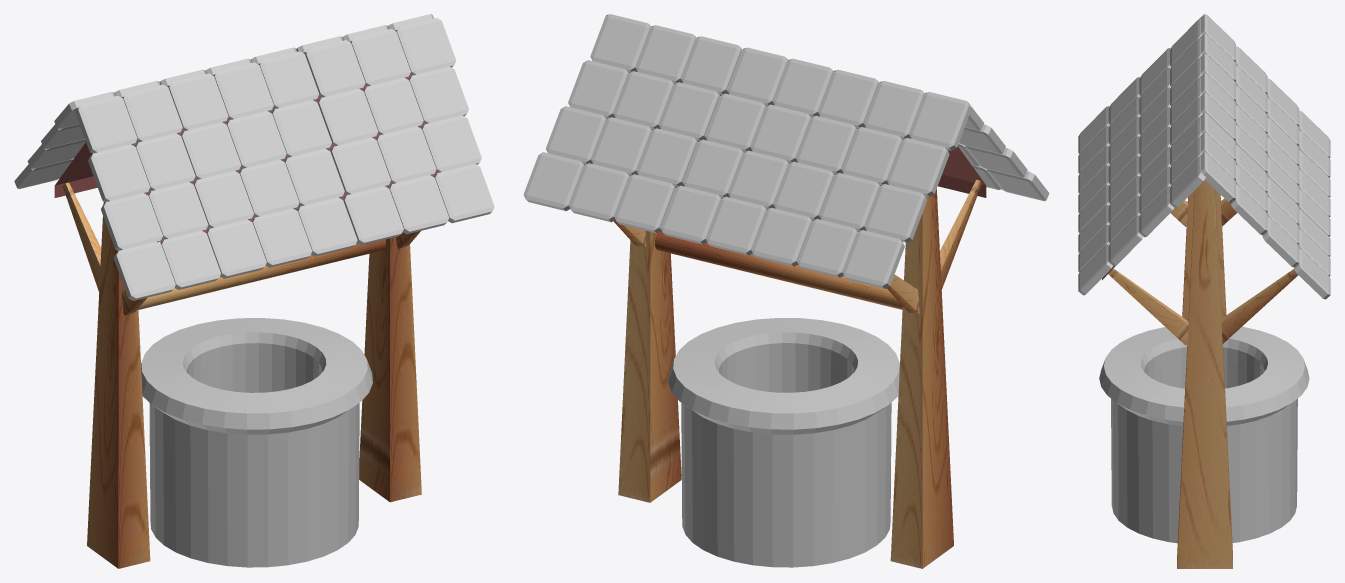
File: poco.fbx
3 renders of one model, left to right at view 1: azimuth 30°, elevation 25°; view 2: azimuth 150°, elevation 25°; view 3: azimuth 270°, elevation 25°, orthographic. The views are drawn at different scales.
Parts seen in each view (by area): view 1: Cube.001; view 2: Cube.001; view 3: Cube.001.
Part boxes in pixels (<box>): Cube.001: <box>14,14,494,568</box>; Cube.001: <box>523,14,1049,568</box>; Cube.001: <box>1078,14,1330,568</box>.
Bounding box in the file's own units: 171 × 198 × 109.
